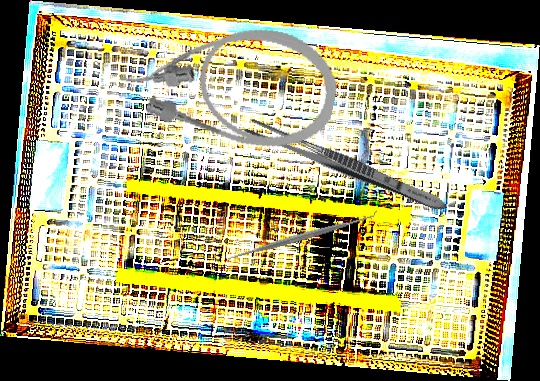Cannula: (111, 3, 346, 160)
Dressing Forceps: (241, 115, 451, 217)
Spatula Surgical: (224, 206, 381, 267)
